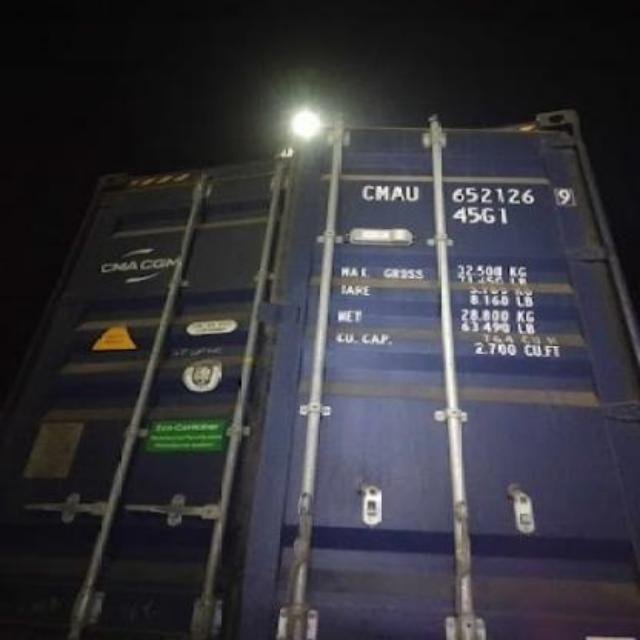1: (494, 178, 508, 208)
2: (476, 179, 494, 205), (508, 175, 520, 207)
5: (464, 178, 478, 206)
6: (520, 175, 538, 211), (448, 175, 464, 207)
9: (554, 186, 576, 207)
A: (388, 178, 406, 208)
C: (356, 176, 374, 204)
M: (372, 178, 390, 206)
U: (406, 176, 422, 212)
